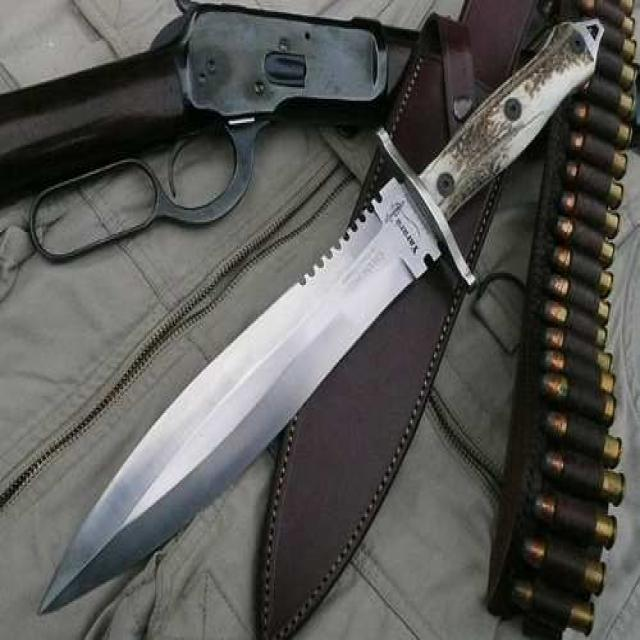knife: (38, 13, 608, 625)
